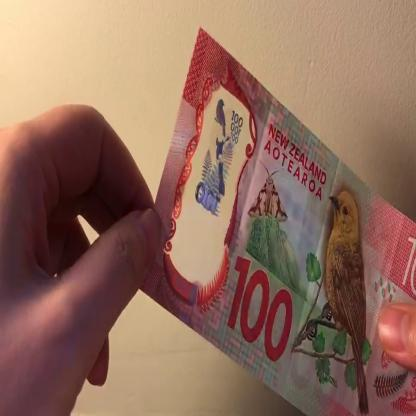100B: (195, 98, 244, 232)
